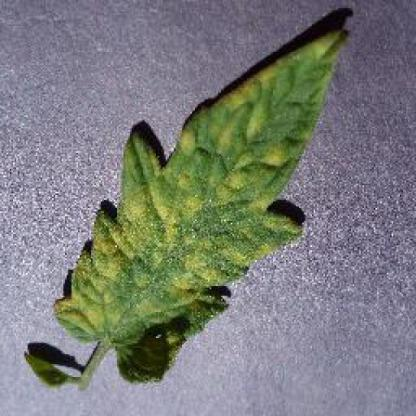Tomato_Leaf_Mold: (57, 28, 347, 357)
